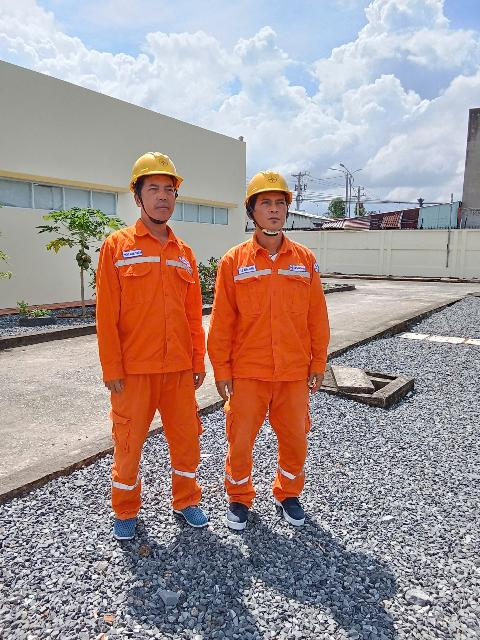helmet: (118, 144, 189, 195), (245, 167, 295, 212)
shoes: (262, 486, 315, 525), (218, 490, 258, 529), (108, 513, 142, 546), (178, 500, 207, 531)
